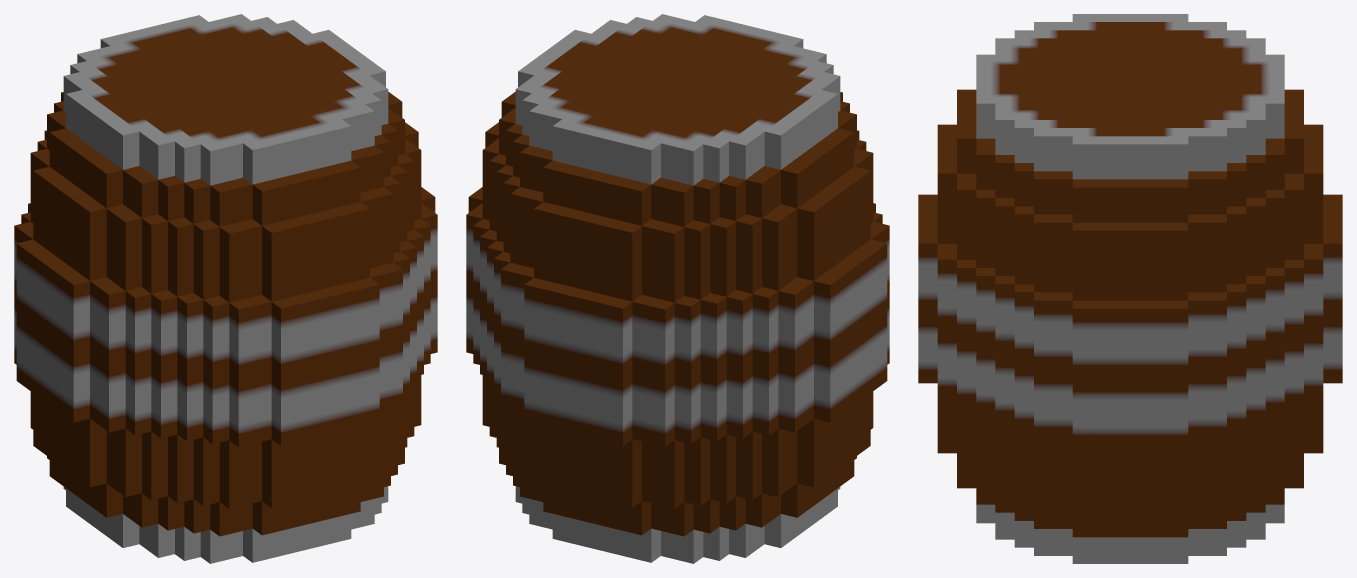
The model's file is taru.dae.
3 renders of one model, left to right at view 1: azimuth 30°, elevation 25°; view 2: azimuth 150°, elevation 25°; view 3: azimuth 270°, elevation 25°, orthographic.
Visible parts, largest first — view 1: pl0 (×2); view 2: pl0 (×2); view 3: pl0 (×2).
Boxes of the visible parts, left/top/right/bottom form: pl0 (×2): left=14, top=14, right=437, bottom=563; pl0 (×2): left=466, top=14, right=889, bottom=563; pl0 (×2): left=918, top=14, right=1342, bottom=563.
Bounding box in the file's own units: 22 × 22 × 24.
